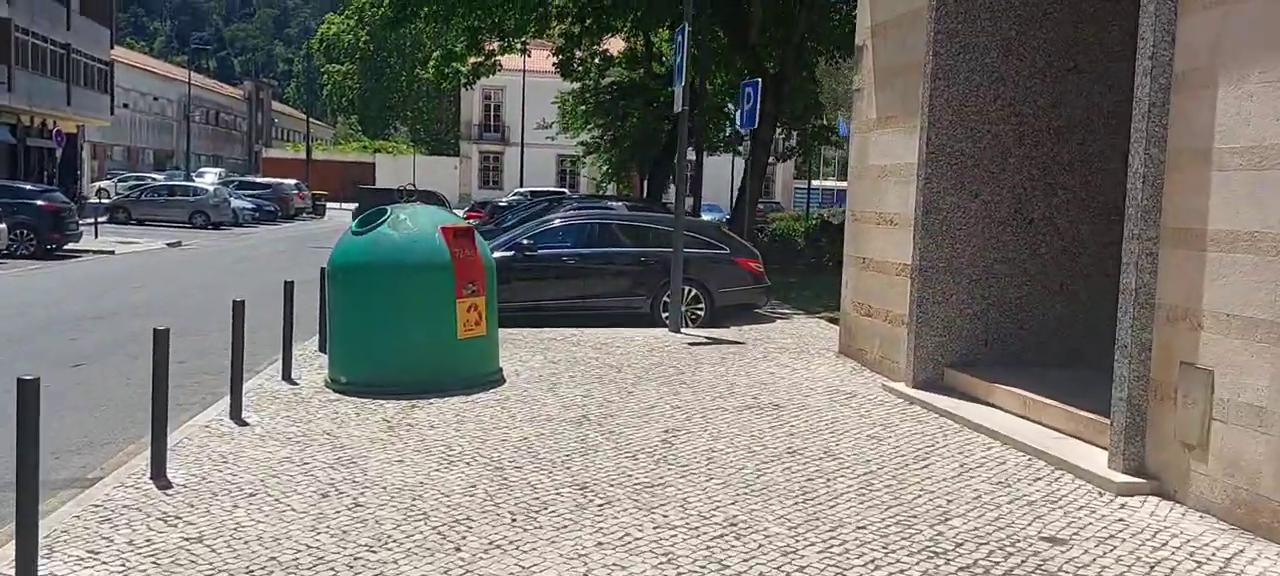Estacionamento autorizado: (669, 21, 691, 84)
